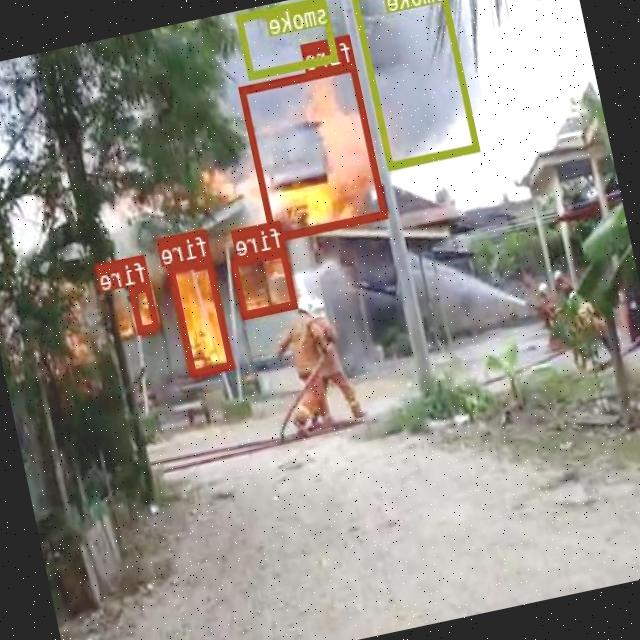fire: (239, 62, 388, 240), (168, 254, 236, 374), (231, 245, 299, 318), (129, 280, 160, 332)
smoke: (350, 0, 480, 168), (236, 0, 338, 77)
